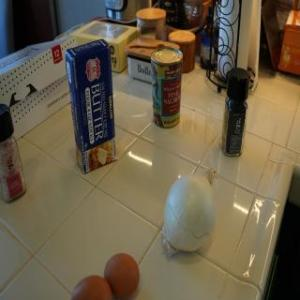egg: (103, 247, 145, 299)
onion: (160, 166, 220, 266)
